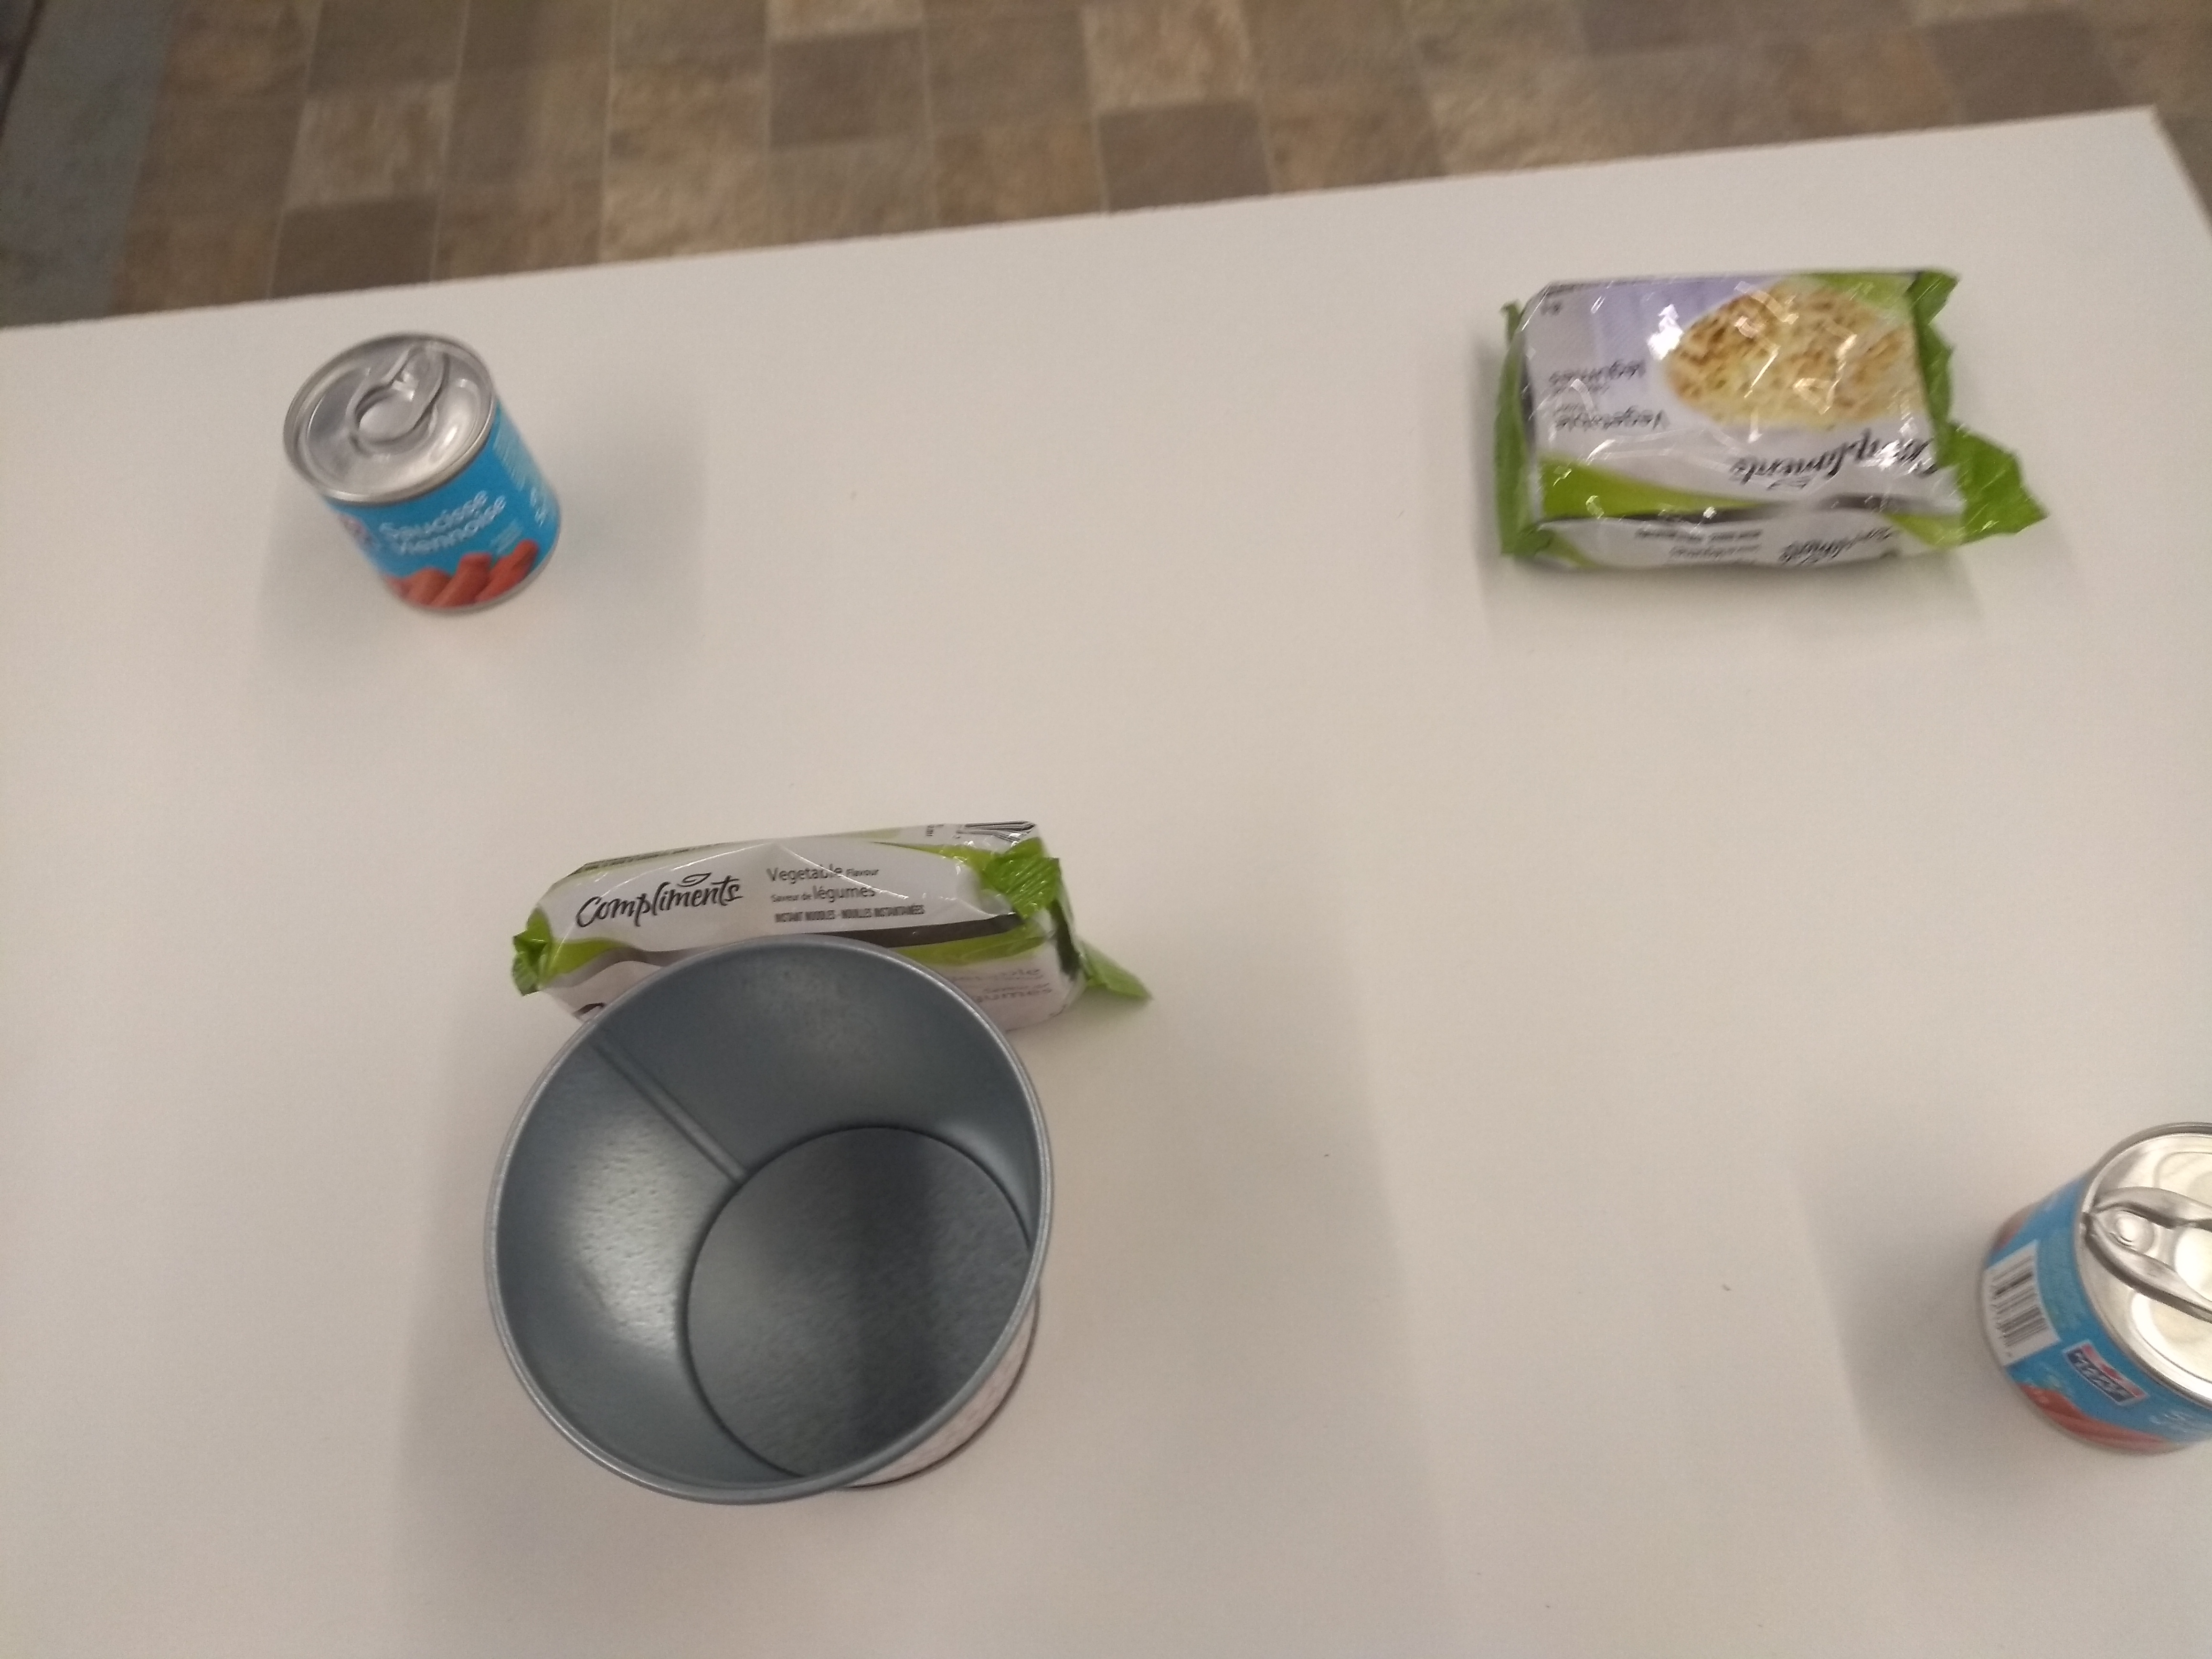noodles: (1468, 249, 2060, 589)
sausages: (273, 326, 566, 634)
